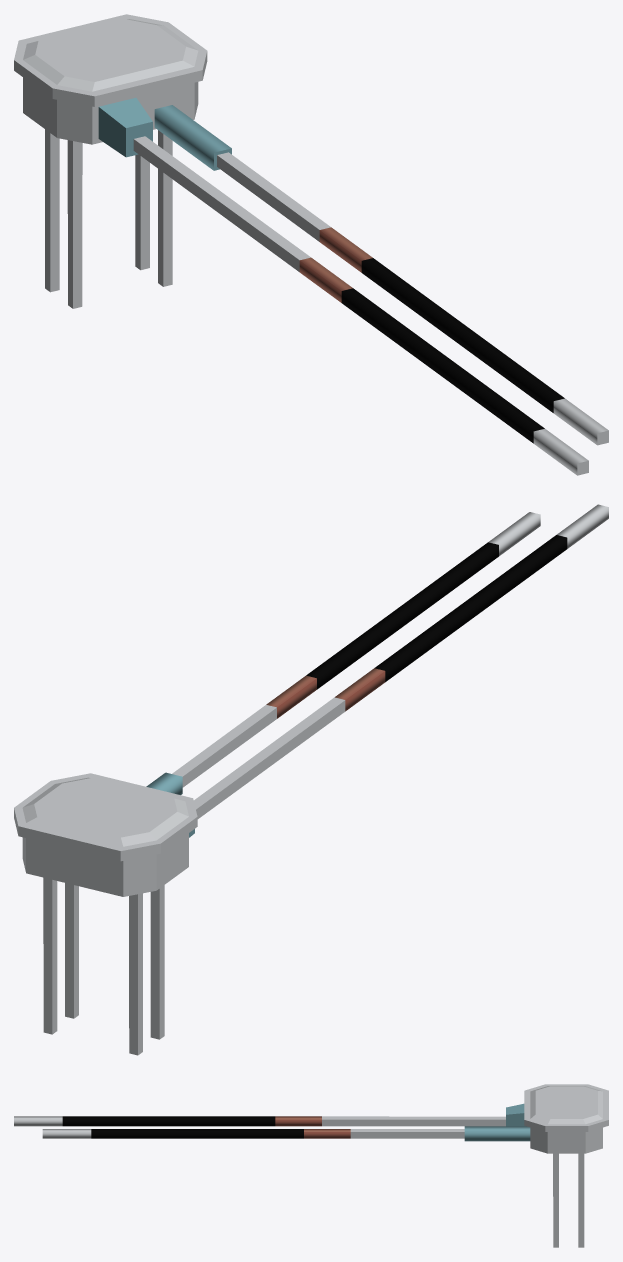
File: switcher.obj
3 renders of one model, top to bottom at view 1: azimuth 30°, elevation 25°; view 2: azimuth 150°, elevation 25°; view 3: azimuth 270°, elevation 25°, orthographic. The views are drawn at different scales.
Visible parts, largest first — view 1: Cube.005_Cube.006; view 2: Cube.005_Cube.006; view 3: Cube.005_Cube.006.
Boxes of the visible parts, x1,y1,x2,y2 form: Cube.005_Cube.006: [14, 14, 608, 475]; Cube.005_Cube.006: [14, 504, 608, 1055]; Cube.005_Cube.006: [14, 1084, 608, 1247].
Size of the model in its own units: 0.5379 by 0.7883 by 3.23.
1 material, 1 textured.
